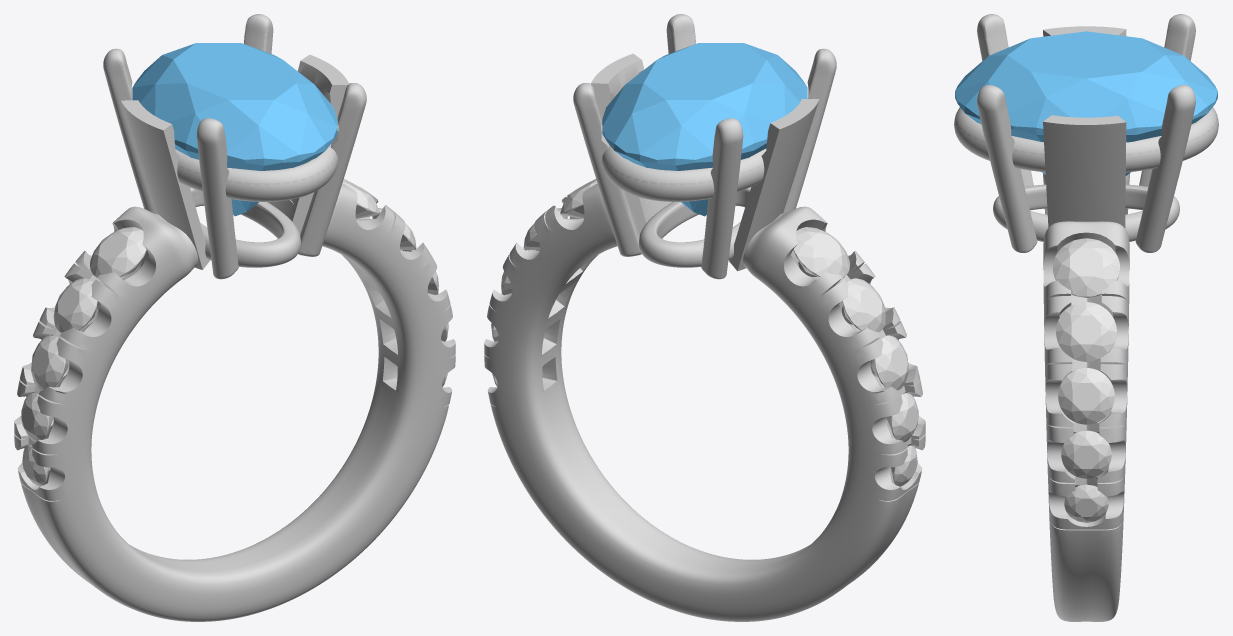
Rendered from StevePTzircon_blender.glb.
The picture shows the model from 3 angles, left to right: view 1: azimuth 30°, elevation 25°; view 2: azimuth 150°, elevation 25°; view 3: azimuth 270°, elevation 25°; orthographic projection.
Visible parts, largest first — view 1: Steve PT for 3d model, Steve ZIRCON, Steve dia for 3d model.009, Steve dia for 3d model.008, Steve dia for 3d model.007, Steve dia for 3d model.006, Steve dia for 3d model.004, Steve dia for 3d model.005; view 2: Steve PT for 3d model, Steve ZIRCON, Steve dia for 3d model.009, Steve dia for 3d model.008, Steve dia for 3d model.007, Steve dia for 3d model.006, Steve dia for 3d model.004, Steve dia for 3d model.005; view 3: Steve PT for 3d model, Steve ZIRCON, Steve dia for 3d model.004, Steve dia for 3d model.003, Steve dia for 3d model.002, Steve dia for 3d model.001, Steve dia for 3d model.
Boxes of the visible parts, x1,y1,x2,y2 form: Steve PT for 3d model: [14, 14, 455, 621]; Steve ZIRCON: [132, 43, 337, 216]; Steve dia for 3d model.009: [90, 227, 146, 277]; Steve dia for 3d model.008: [53, 278, 97, 332]; Steve dia for 3d model.007: [31, 335, 68, 390]; Steve dia for 3d model.006: [21, 393, 53, 442]; Steve dia for 3d model.004: [342, 179, 379, 218]; Steve dia for 3d model.005: [22, 445, 49, 486]; Steve PT for 3d model: [484, 14, 925, 621]; Steve ZIRCON: [602, 43, 807, 216]; Steve dia for 3d model.009: [793, 227, 849, 277]; Steve dia for 3d model.008: [842, 278, 886, 332]; Steve dia for 3d model.007: [871, 335, 908, 390]; Steve dia for 3d model.006: [886, 393, 918, 442]; Steve dia for 3d model.004: [560, 179, 597, 218]; Steve dia for 3d model.005: [890, 445, 917, 486]; Steve PT for 3d model: [954, 14, 1218, 621]; Steve ZIRCON: [955, 31, 1217, 175]; Steve dia for 3d model.004: [1053, 238, 1119, 297]; Steve dia for 3d model.003: [1056, 302, 1116, 361]; Steve dia for 3d model.002: [1058, 368, 1114, 424]; Steve dia for 3d model.001: [1061, 430, 1111, 478]; Steve dia for 3d model: [1064, 484, 1108, 522].
Size of the model in its own units: 23.18 by 28.77 by 12.6.
